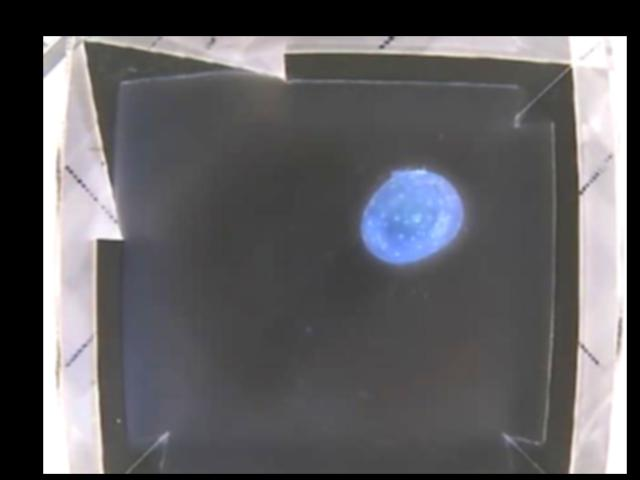Potato: (359, 169, 464, 264)
